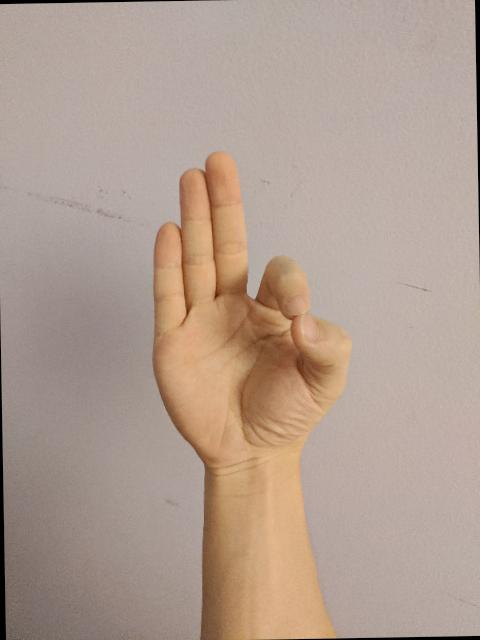F: (144, 143, 360, 477)
